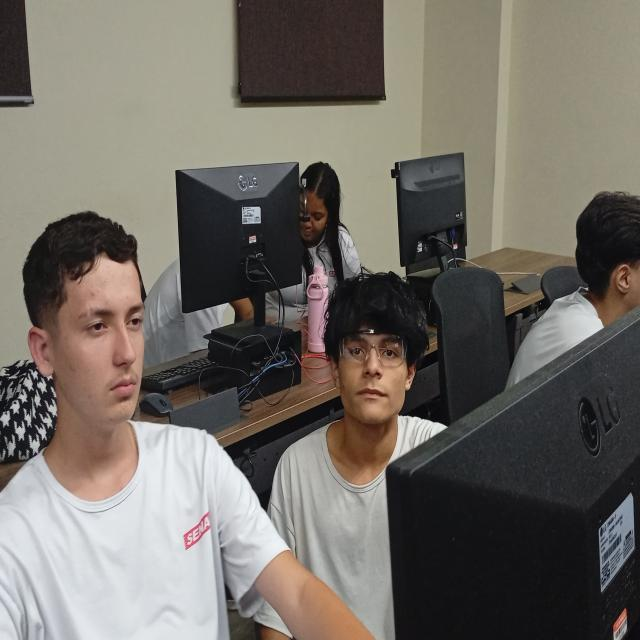oculos-epi: (340, 329, 406, 367)
sem_oculos: (27, 299, 162, 343), (299, 197, 337, 229)
